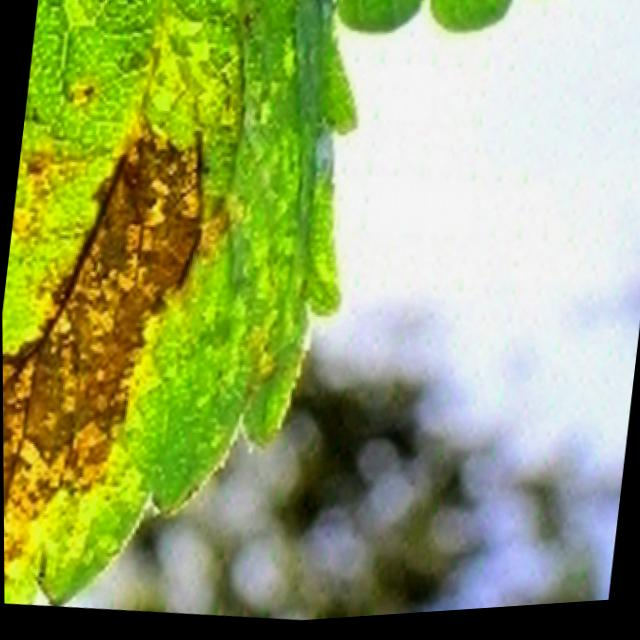Angular Leafspot: (2, 0, 339, 607)
